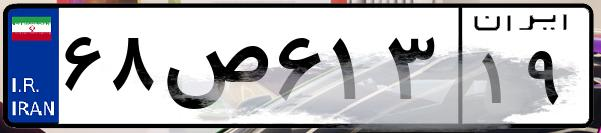1: (330, 28, 385, 110), (475, 38, 525, 113)
3: (385, 28, 445, 110)
6: (270, 28, 330, 110), (57, 26, 110, 100)
8: (110, 28, 158, 98)
9: (525, 38, 570, 115)
ص: (158, 20, 270, 120)
